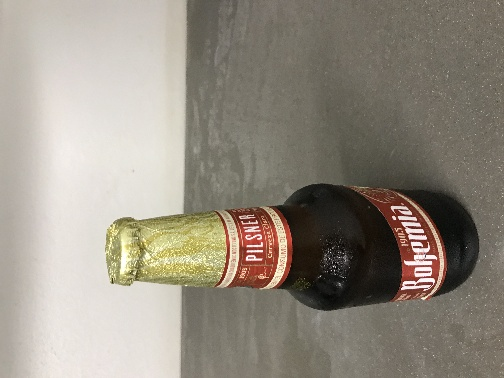BPB: (271, 144, 324, 216), (160, 154, 214, 203)
